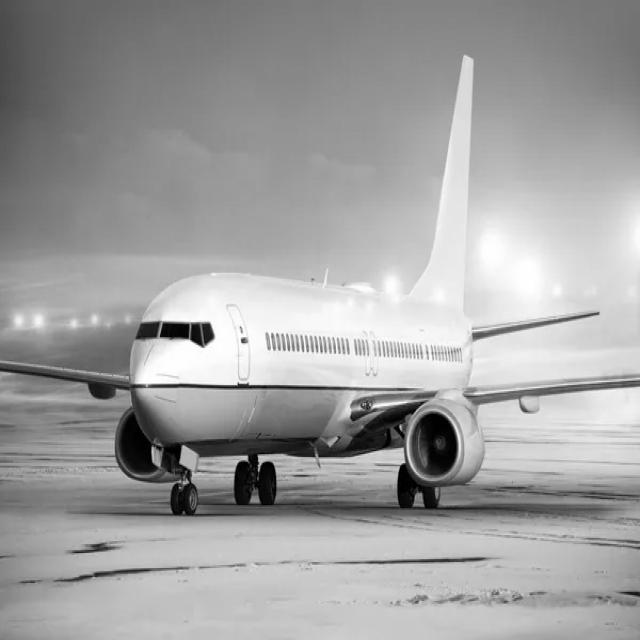Aircraft: (4, 52, 612, 523)
